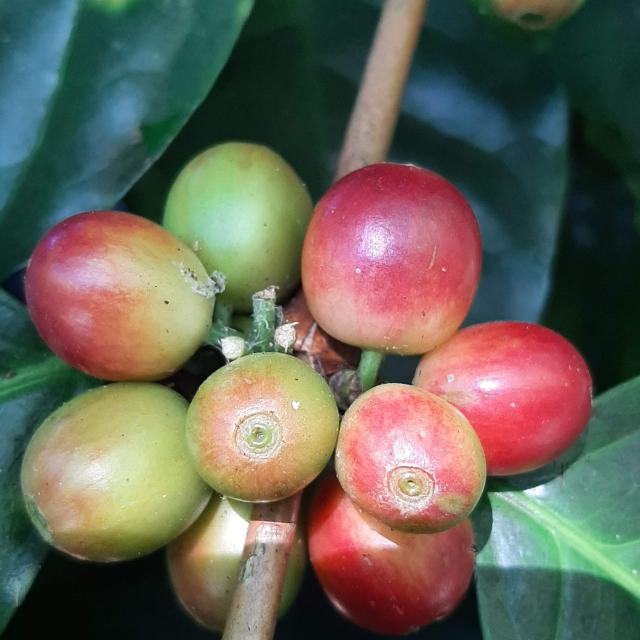green: (163, 142, 313, 312)
red: (414, 322, 593, 476)
yellow: (20, 383, 212, 563), (302, 163, 482, 355), (24, 211, 215, 381), (308, 476, 476, 636), (185, 353, 339, 503), (335, 384, 487, 535), (166, 494, 252, 633), (279, 516, 307, 617)
